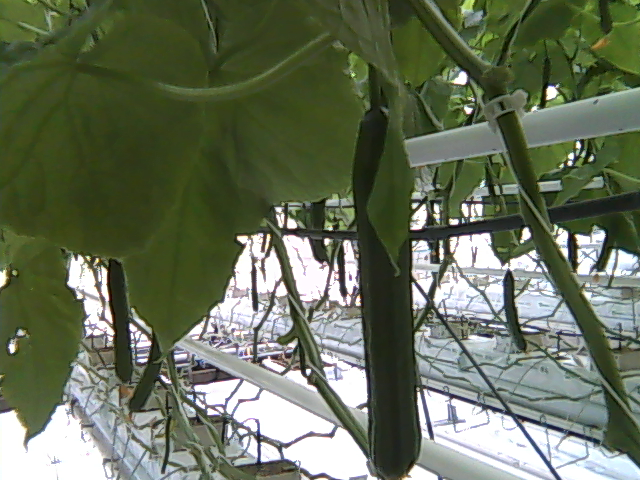concombre: (350, 92, 426, 480)
